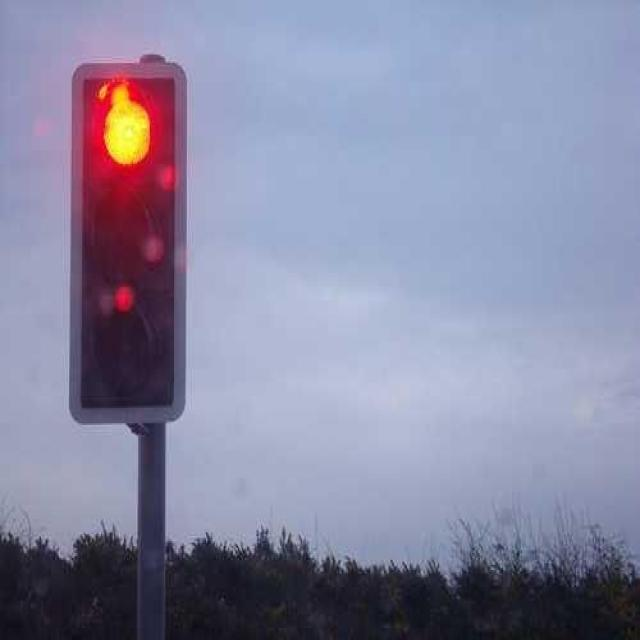Traffic Light -Red-: (62, 51, 190, 430)
